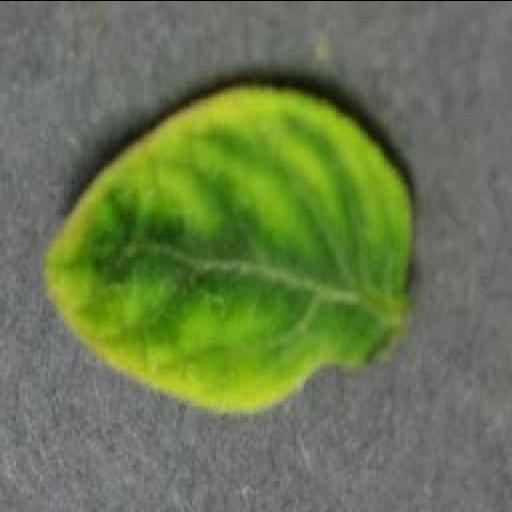disease_tomato: (38, 88, 412, 414)
